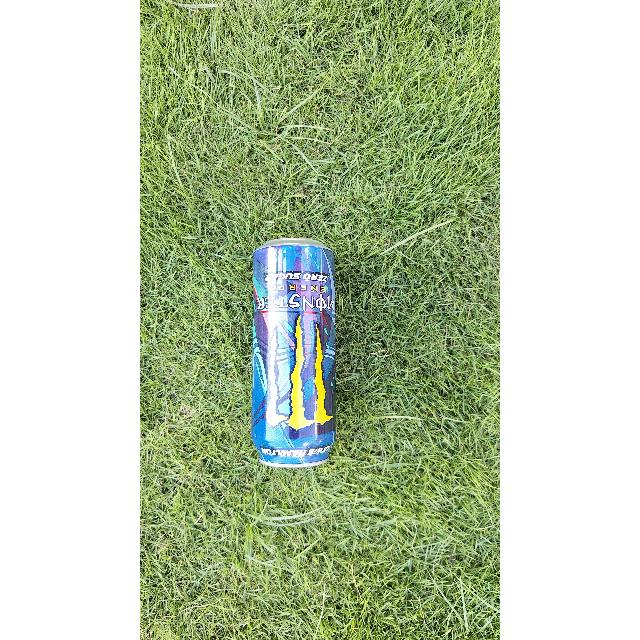Monster LH44: (247, 235, 346, 470)
